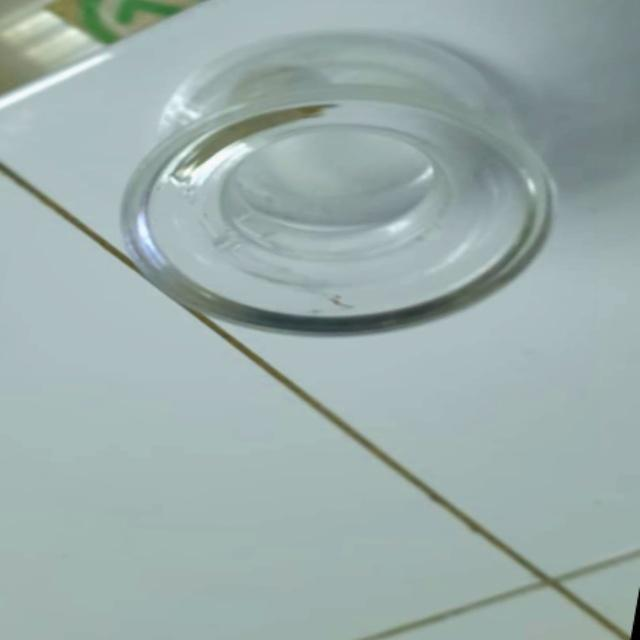Filtration Flask: (104, 56, 638, 368)
